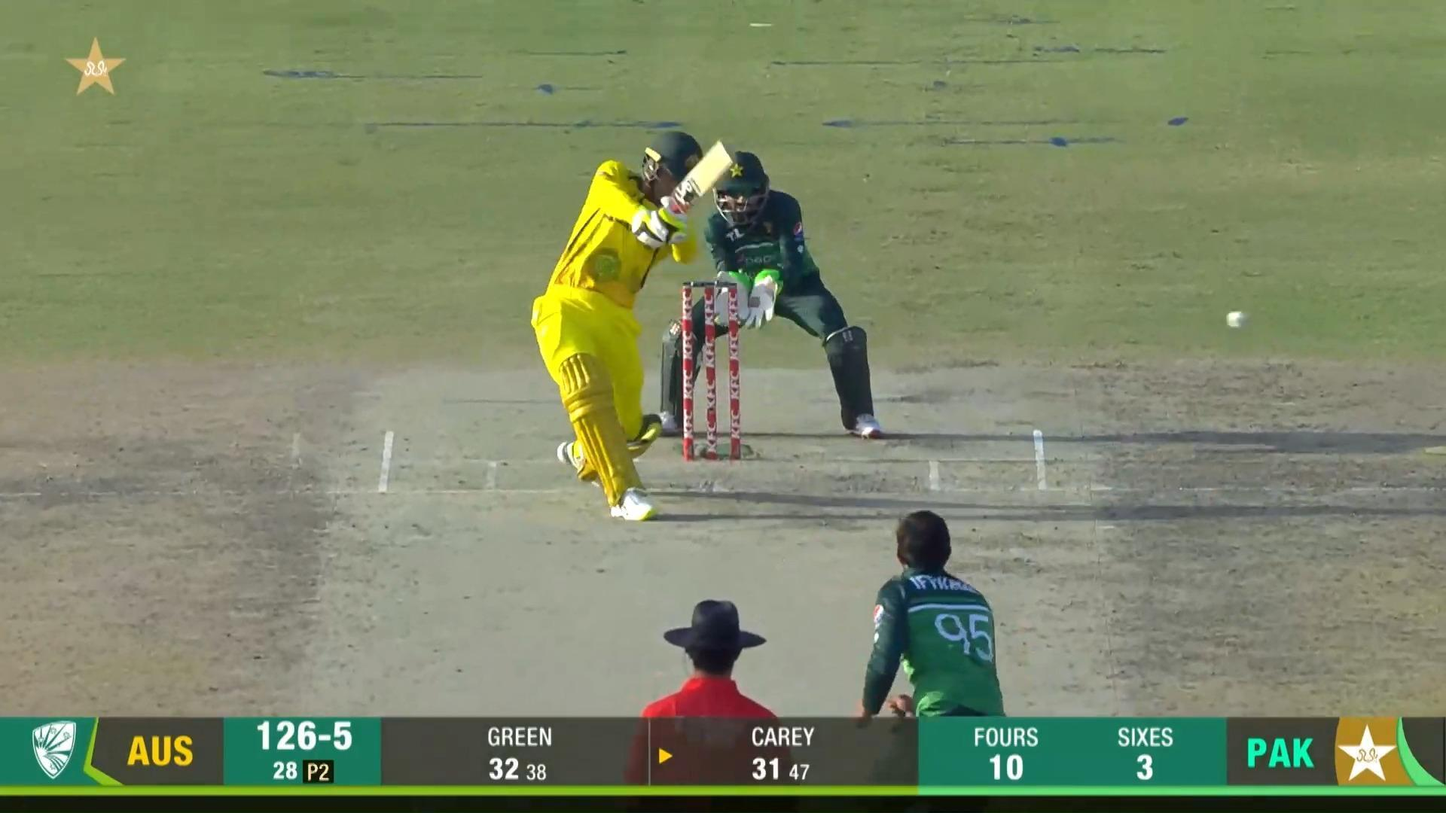BM 1: (530, 131, 736, 523)
BO: (855, 508, 1005, 716)
